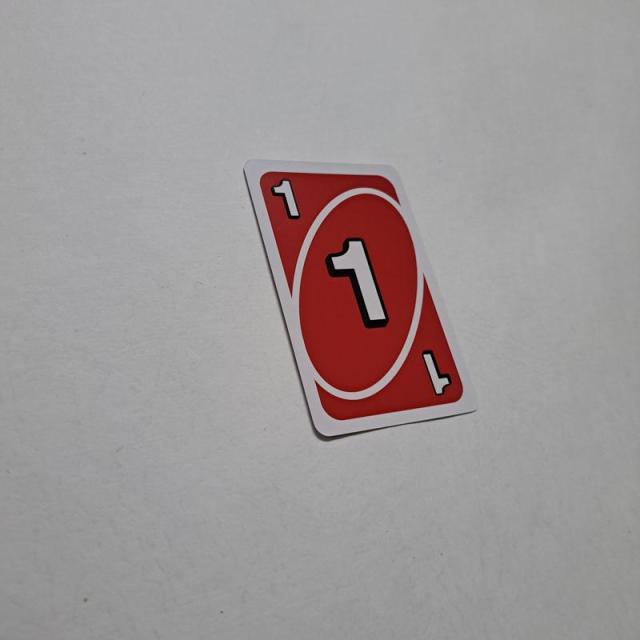Number_1: (268, 175, 303, 222)
Red_Card: (259, 164, 469, 423)
